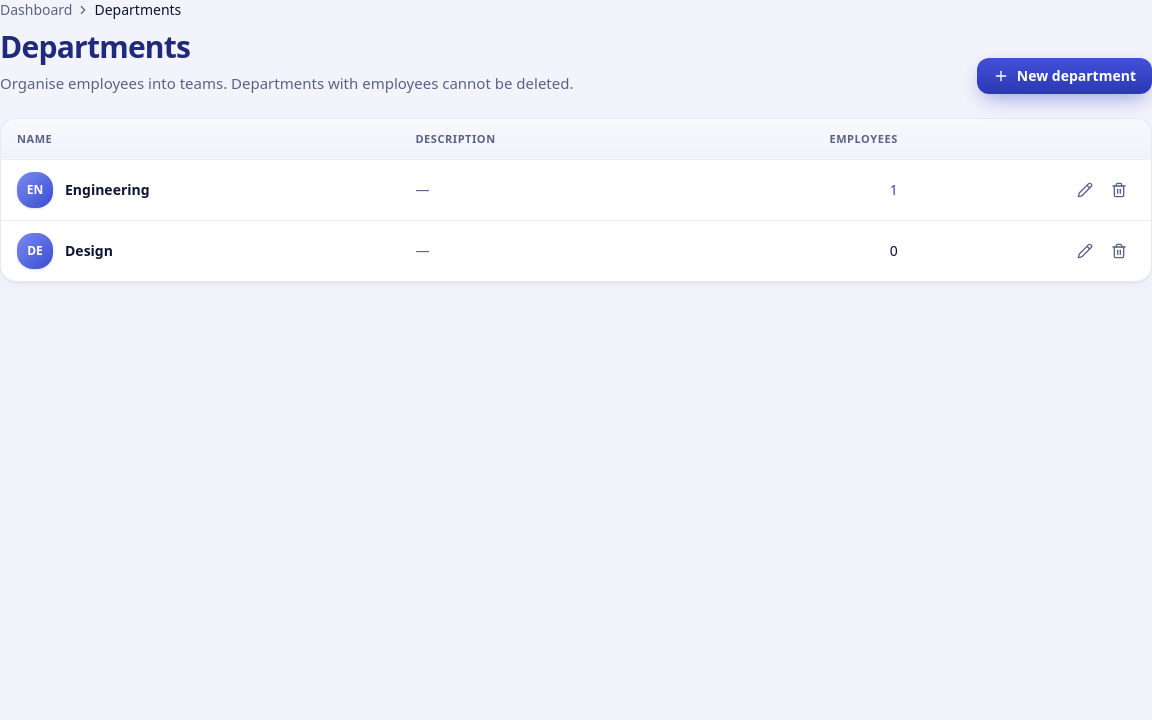
<DepartmentManager> › explains why a department with employees cannot be deleted
Expected: the table named "Departments" is shown, left=1, top=119, right=1151, bottom=280
Click the button named "Delete Engineering" at (1119, 190), box left=1103, top=174, right=1135, bottom=206
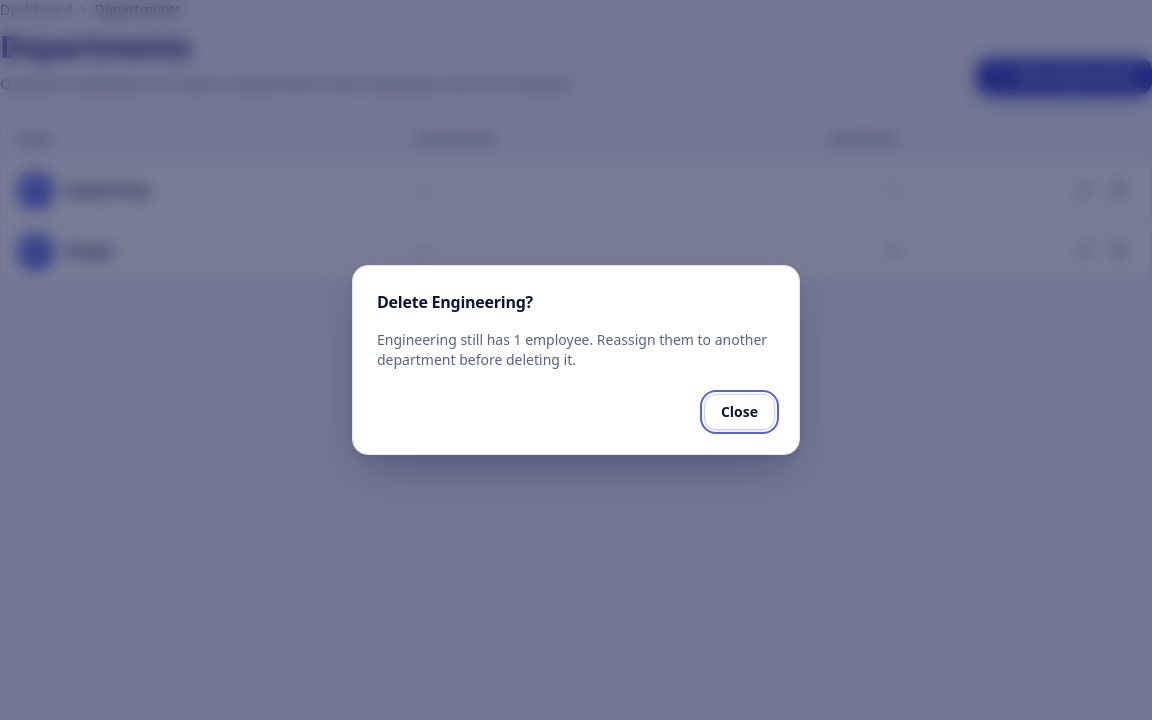
Expected: the text "still has 1 employee" is shown, left=377, top=330, right=767, bottom=369
